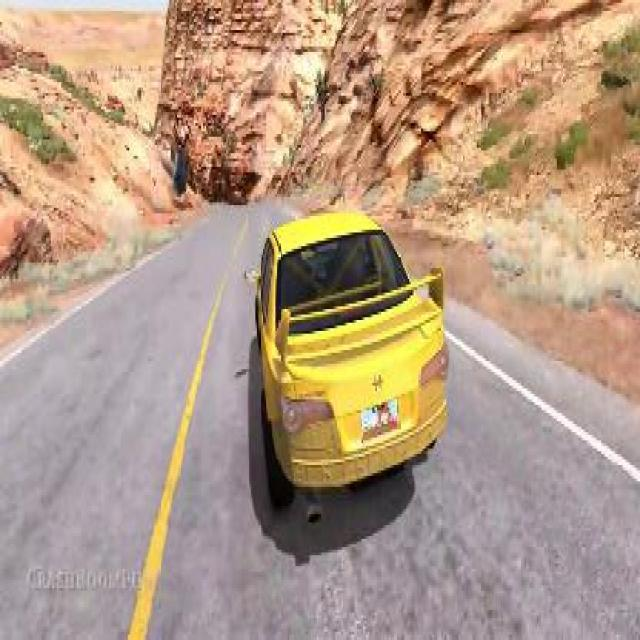accident: (166, 138, 188, 196)
